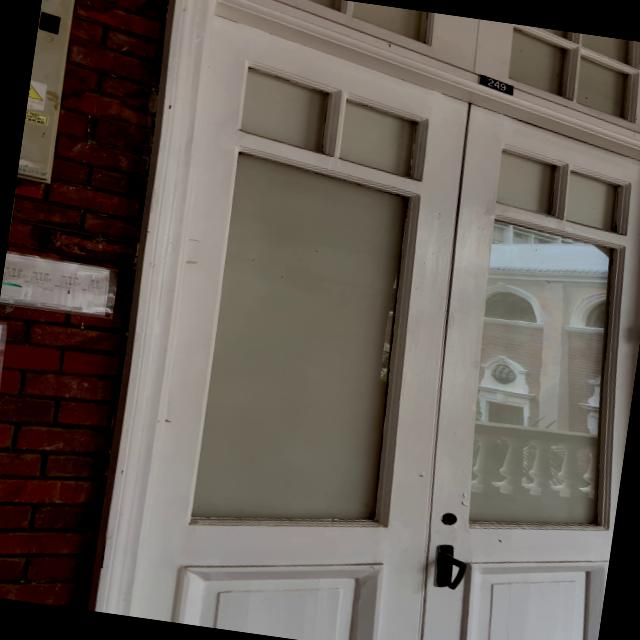room249: (470, 72, 518, 98)
